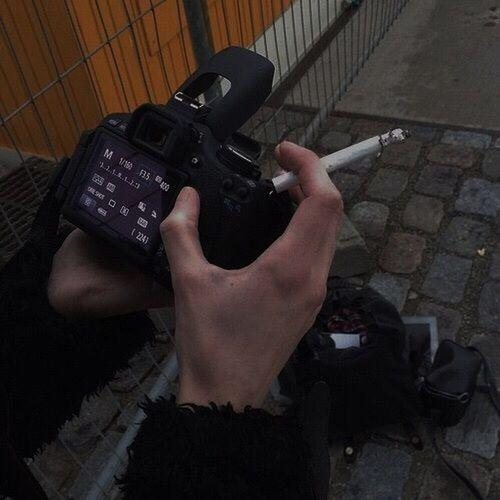cigarette: (272, 127, 410, 194)
